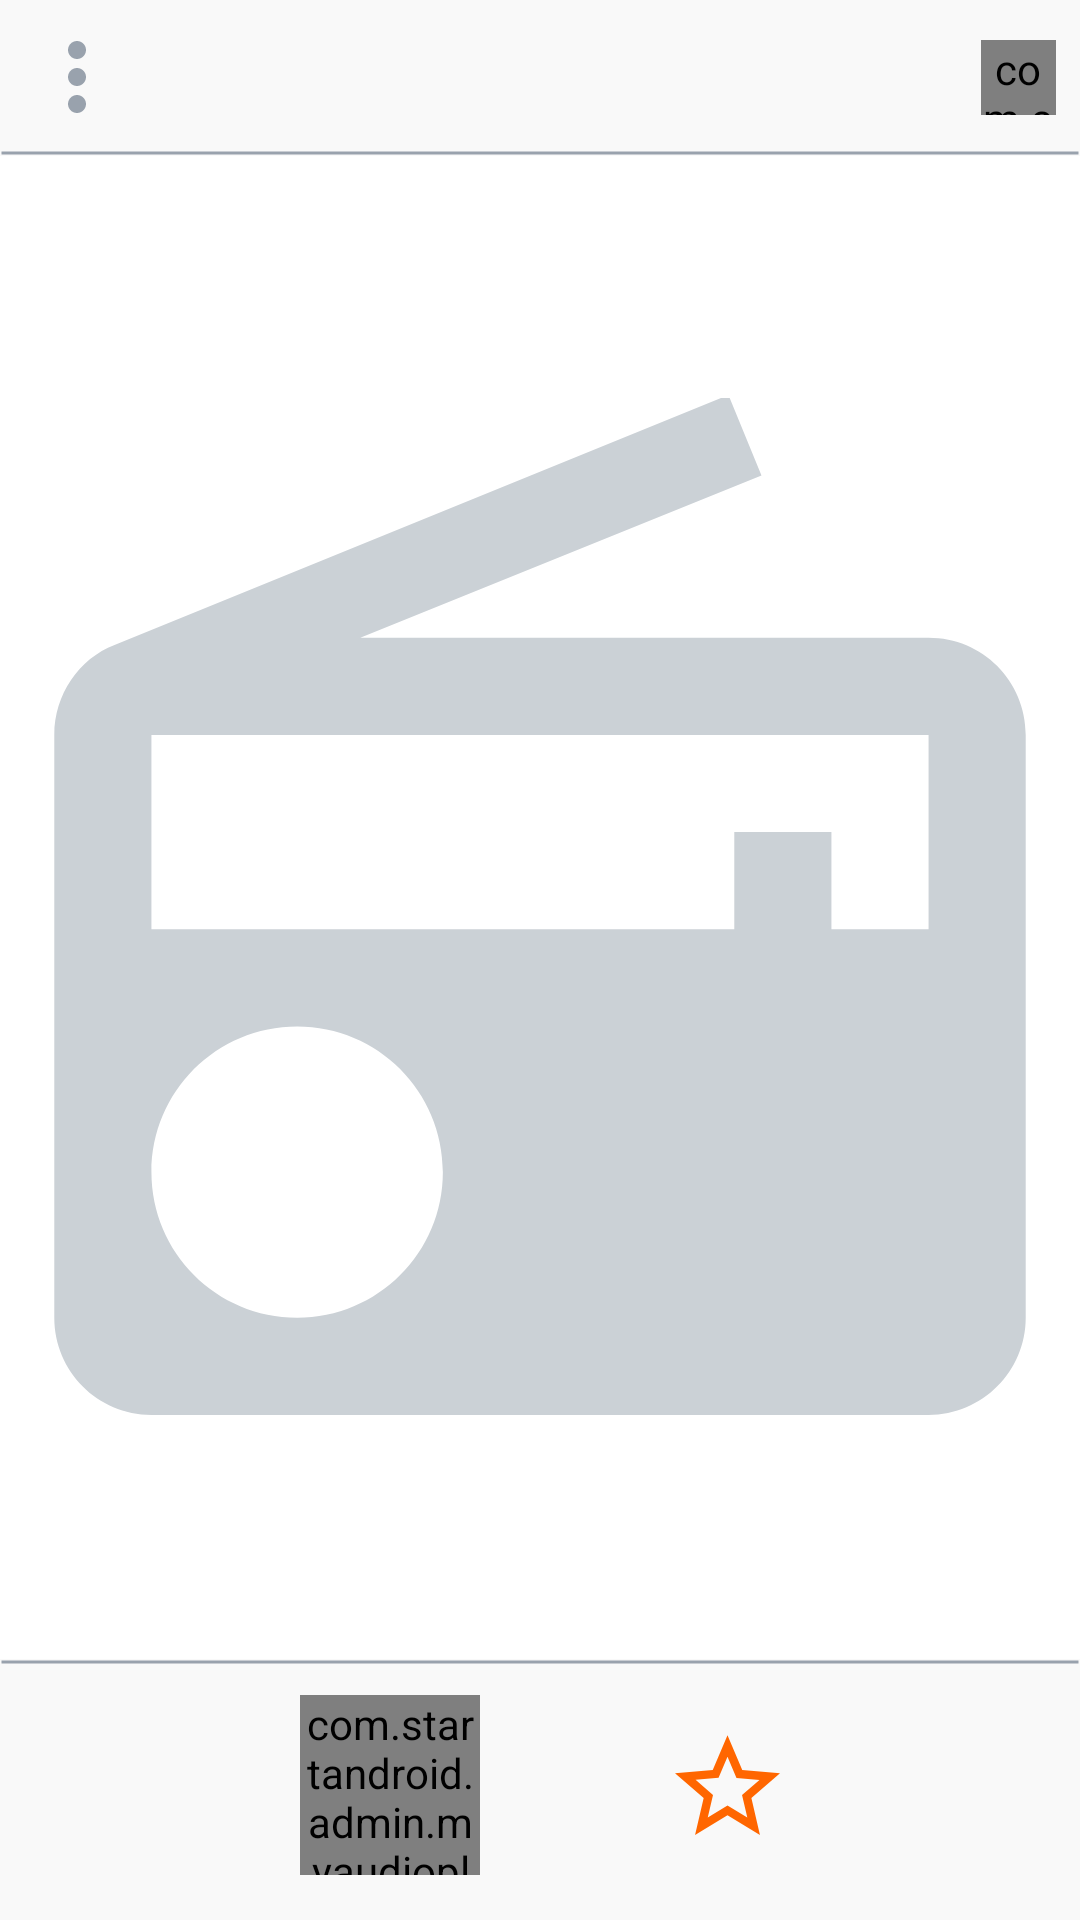

Named icons in this screenshot (1080 x 1920) and their bounding boxes, BBox(x1, y1, x2, y2):
vert dots: BBox(68, 41, 86, 113)
